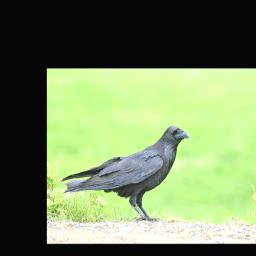Crow: (60, 125, 191, 222)
